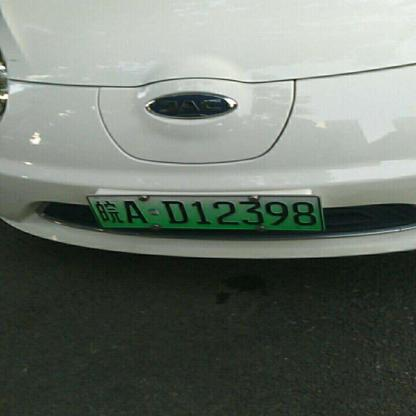lp: (86, 194, 326, 230)
